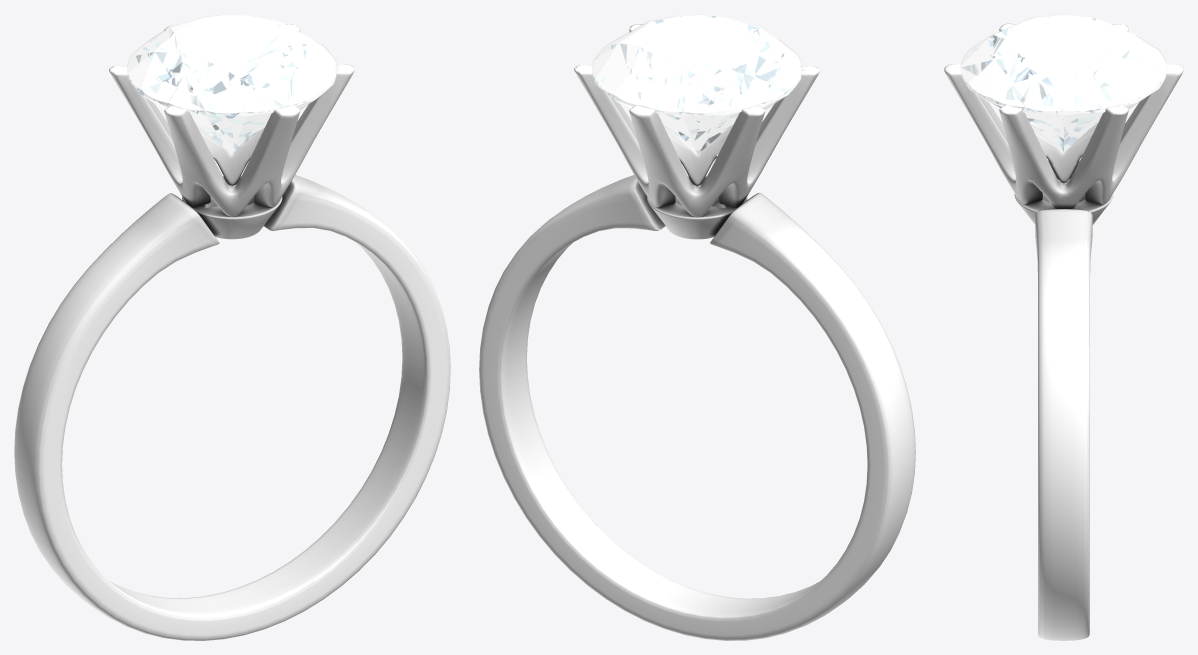
The model's file is Ring.glb.
The picture shows the model from 3 angles, left to right: view 1: azimuth 30°, elevation 25°; view 2: azimuth 150°, elevation 25°; view 3: azimuth 270°, elevation 25°; orthographic projection.
Parts seen in each view (by area): view 1: Ring, Diamond, DiamondColor; view 2: Ring, Diamond, DiamondColor; view 3: Ring, Diamond, DiamondColor.
Part boxes in pixels (x1,y1,x2,y2): Ring: [14, 24, 450, 640]; Diamond: [127, 14, 337, 154]; DiamondColor: [128, 15, 336, 154]; Ring: [479, 24, 915, 640]; Diamond: [592, 14, 802, 154]; DiamondColor: [593, 15, 801, 154]; Ring: [944, 23, 1183, 640]; Diamond: [960, 14, 1167, 152]; DiamondColor: [961, 15, 1166, 151].
Bounding box in the file's own units: 0.1166 × 0.1572 × 0.0588.
3 materials, 1 textured.
